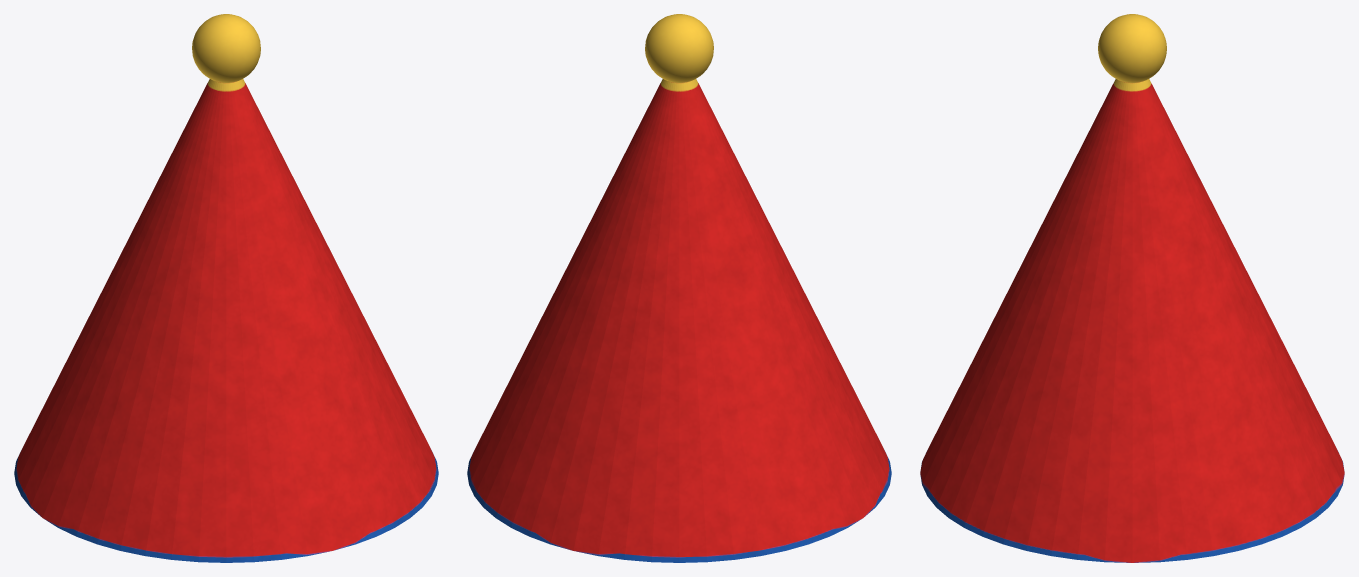
Rendered from 43-topper.fbx.
3 renders of one model, left to right at view 1: azimuth 30°, elevation 25°; view 2: azimuth 150°, elevation 25°; view 3: azimuth 270°, elevation 25°, orthographic.
Parts seen in each view (by area): view 1: topper; view 2: topper; view 3: topper.
Part boxes in pixels (x1,y1,x2,y2): topper: (14, 14, 438, 562); topper: (467, 14, 891, 562); topper: (920, 14, 1344, 562).
Bounding box in the file's own units: 2700 × 3200 × 2700.
Materials: 1 (1 with a texture image).
